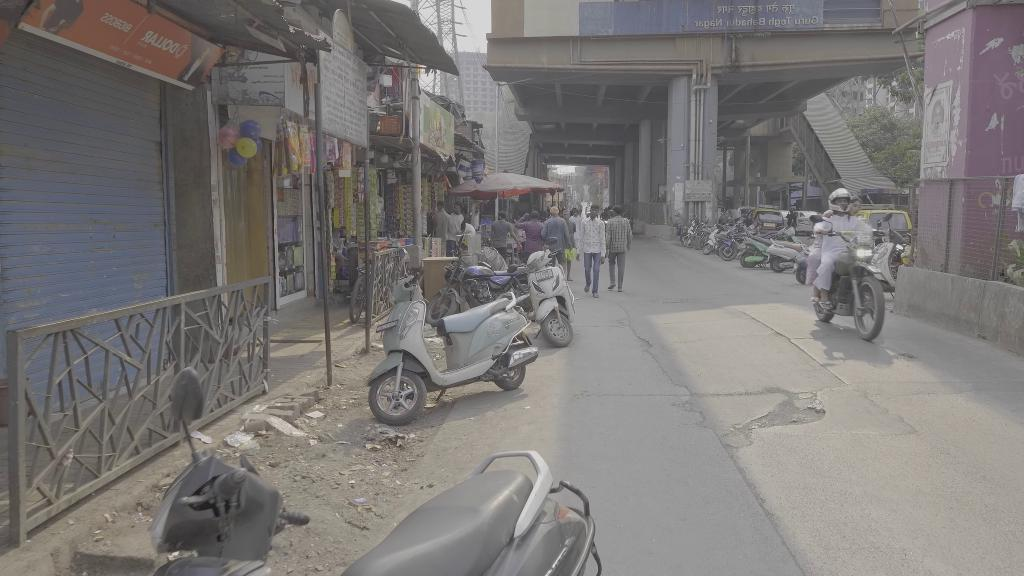garbage: (244, 413, 308, 443), (222, 431, 254, 452)
